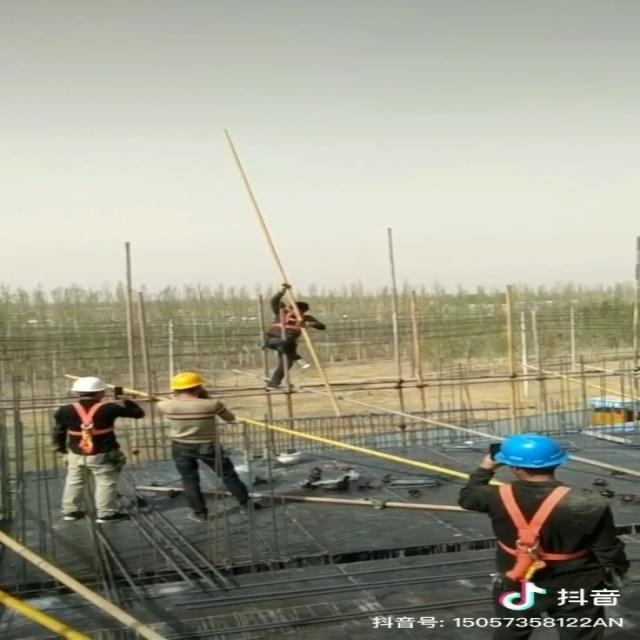Arnes_seguridad: (484, 482, 594, 578), (56, 400, 124, 456), (264, 308, 312, 334)
